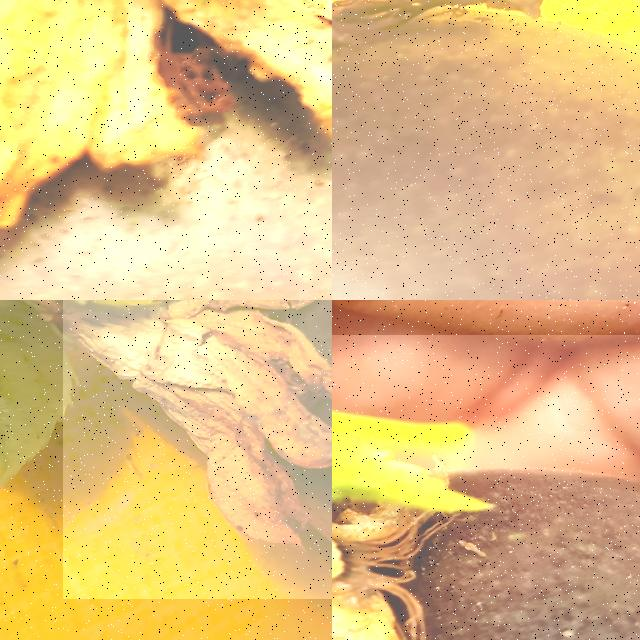Estado-4: (0, 0, 332, 300), (63, 300, 332, 547), (332, 473, 640, 640)
Estado-5: (332, 0, 640, 300)
